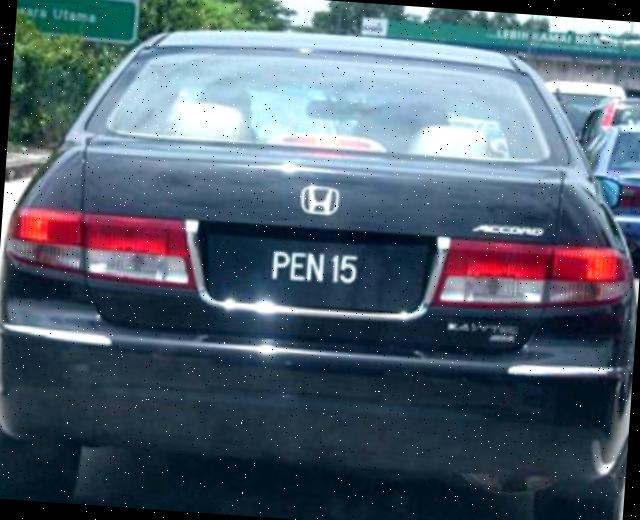License_Plate: (213, 231, 417, 312)
